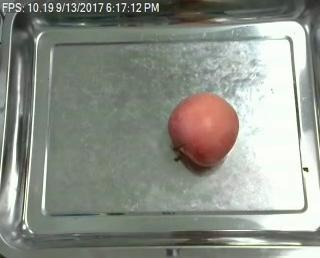apple: (168, 95, 241, 166)
